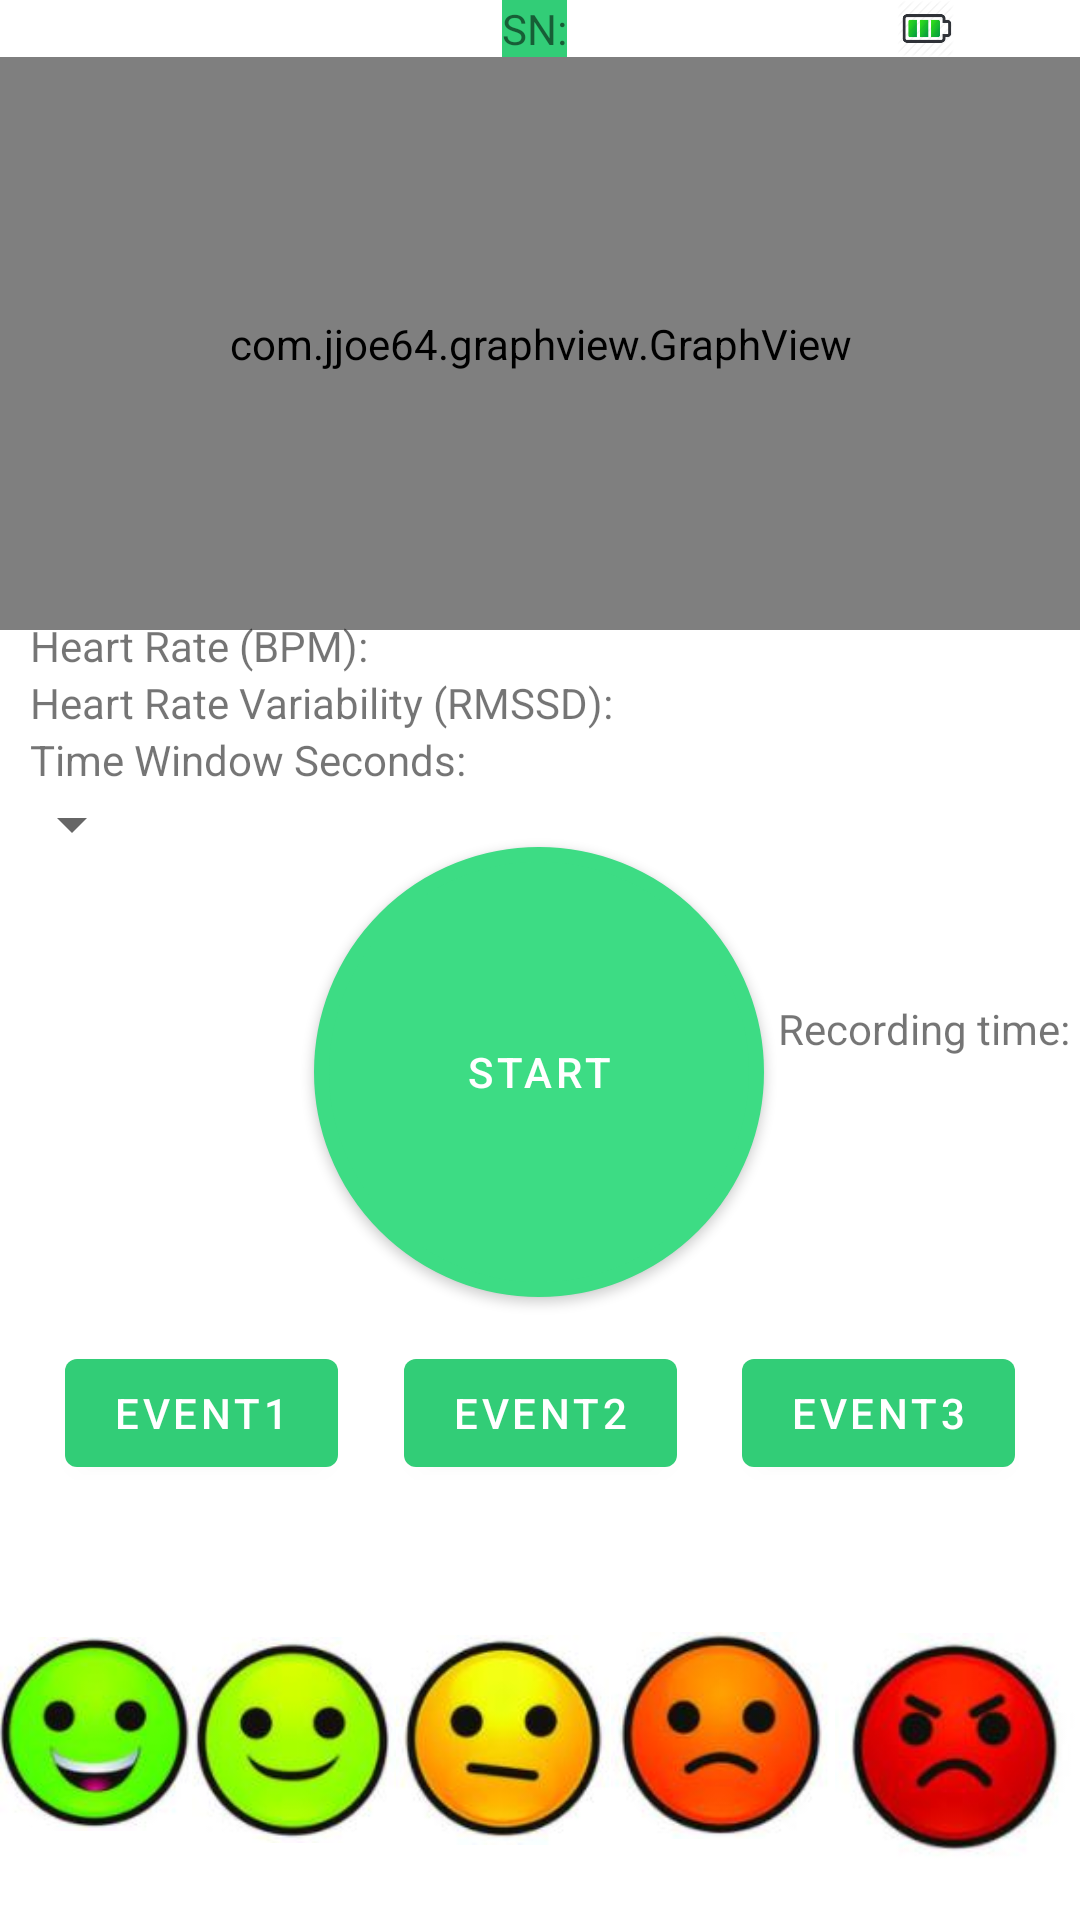

Icon bounding boxes for this 1080x1920 phone screenshot, format (x1, y1, x2, y2):
Good: (196, 1644, 389, 1837)
Perfect: (0, 1638, 189, 1828)
So Stressed: (852, 1643, 1058, 1850)
So-So: (405, 1640, 602, 1837)
Stressed: (621, 1635, 822, 1834)
